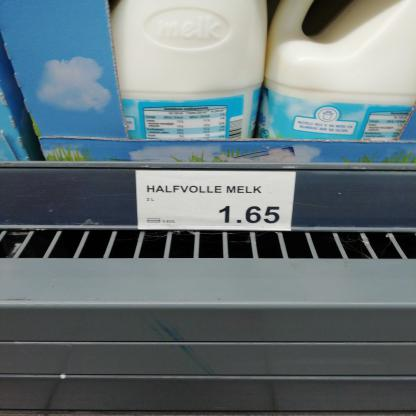prtg: (136, 171, 297, 232)
